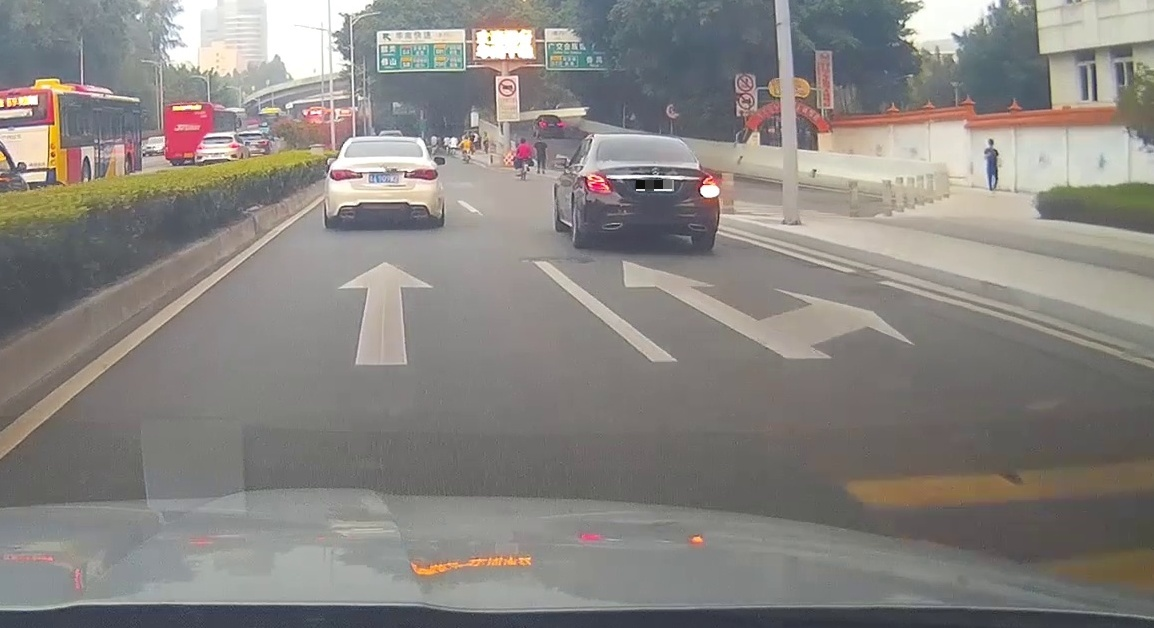L_light: (584, 172, 613, 193), (330, 169, 362, 181), (196, 144, 205, 150)
R_light: (699, 175, 719, 198), (404, 169, 438, 181), (228, 142, 240, 149)
T_light: (635, 139, 655, 144), (376, 140, 392, 145), (214, 136, 222, 140)
day-no: (324, 136, 444, 228), (195, 132, 240, 166)
day-right: (583, 133, 720, 249)
plate_1: (636, 180, 674, 191)
